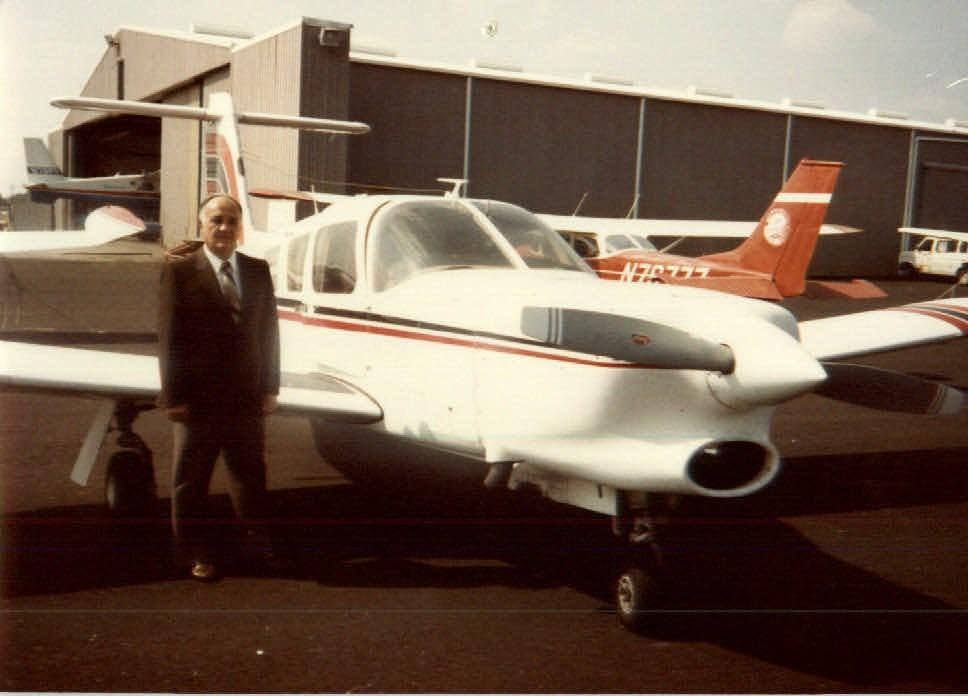plane: (1, 89, 967, 626)
